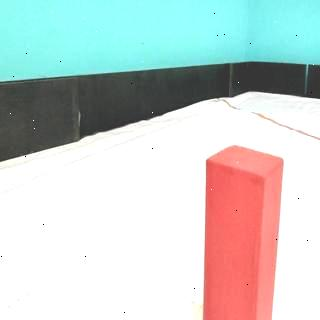redbox: (202, 144, 284, 320)
